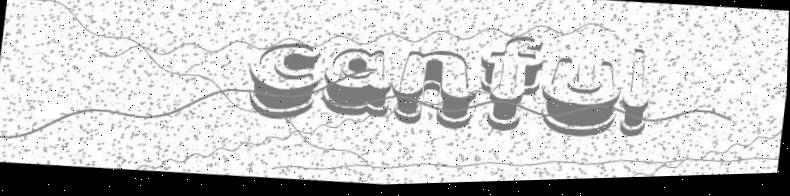a: (320, 46, 395, 122)
c: (242, 40, 323, 125)
f: (474, 33, 546, 137)
l: (618, 49, 657, 144)
n: (389, 47, 481, 136)
u: (537, 54, 625, 145)
